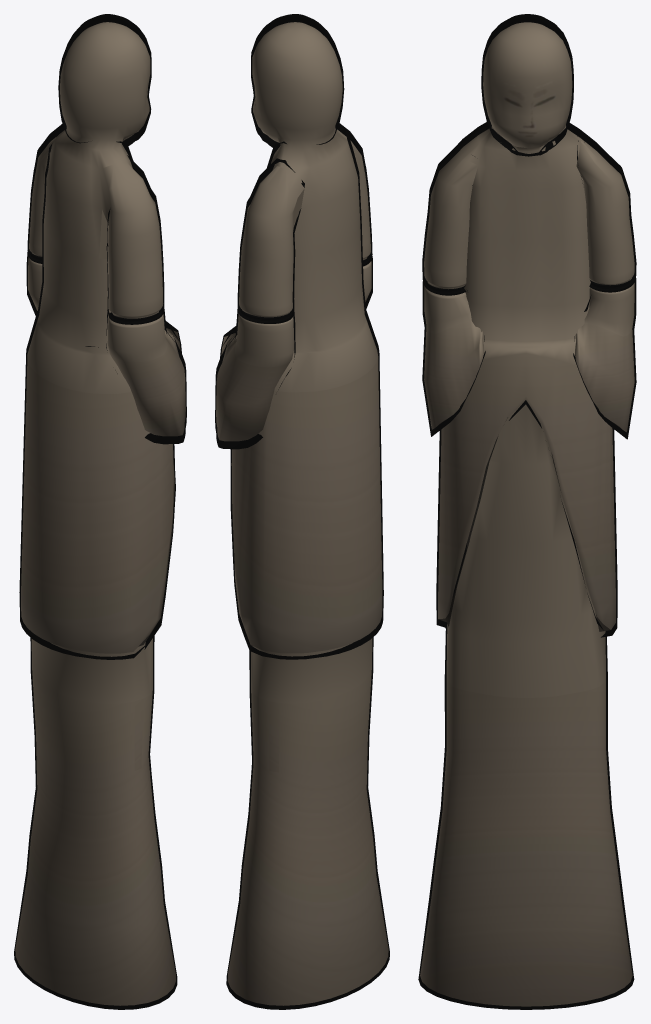
The model's file is env_statue.glb.
The picture shows the model from 3 angles, left to right: view 1: azimuth 30°, elevation 25°; view 2: azimuth 150°, elevation 25°; view 3: azimuth 270°, elevation 25°; orthographic projection. The views are drawn at different scales.
Visible parts, largest first — view 1: statue; view 2: statue; view 3: statue.
Boxes of the visible parts, box(x1,y1,x2,y2) form: statue: box(14, 14, 186, 1009); statue: box(215, 14, 389, 1009); statue: box(418, 14, 636, 1009).
Bounding box in the file's own units: 0.2862 × 2.04 × 0.4169.
Materials: 2 (1 with a texture image).
